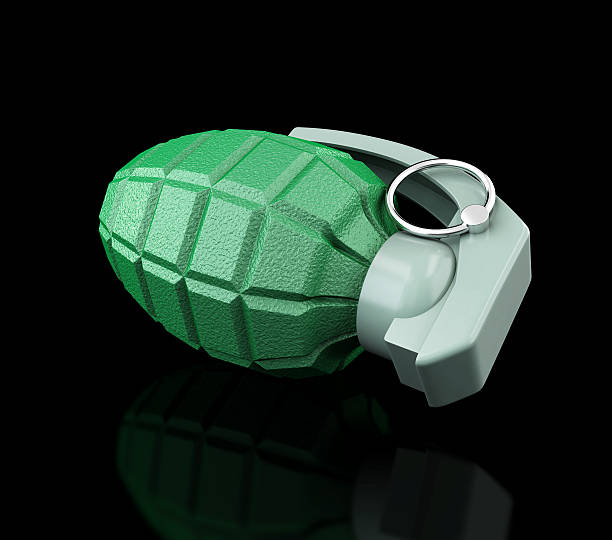e1: (98, 123, 536, 407)
